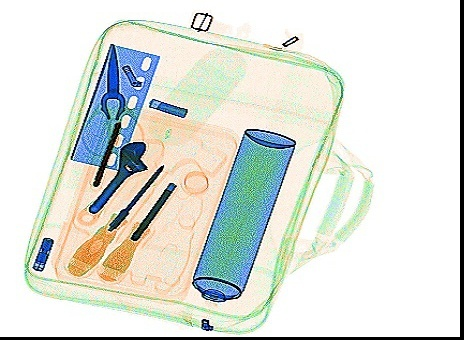pressure: (189, 126, 296, 307)
scissors: (81, 41, 143, 164)
